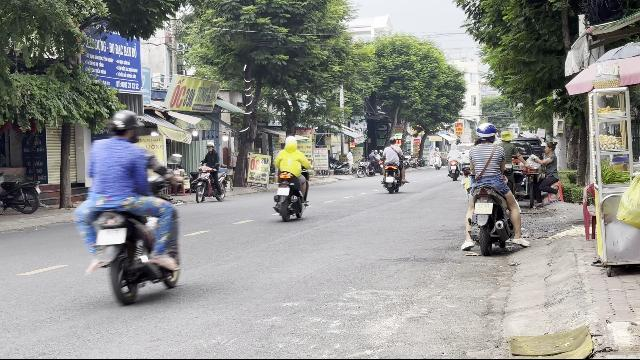helmet: (108, 109, 140, 141), (475, 122, 497, 142), (284, 136, 296, 150)
licenseplate: (96, 228, 128, 246), (475, 202, 493, 213), (277, 188, 289, 196)
motorcyclist: (70, 107, 184, 304), (460, 122, 524, 255), (271, 136, 311, 221)
